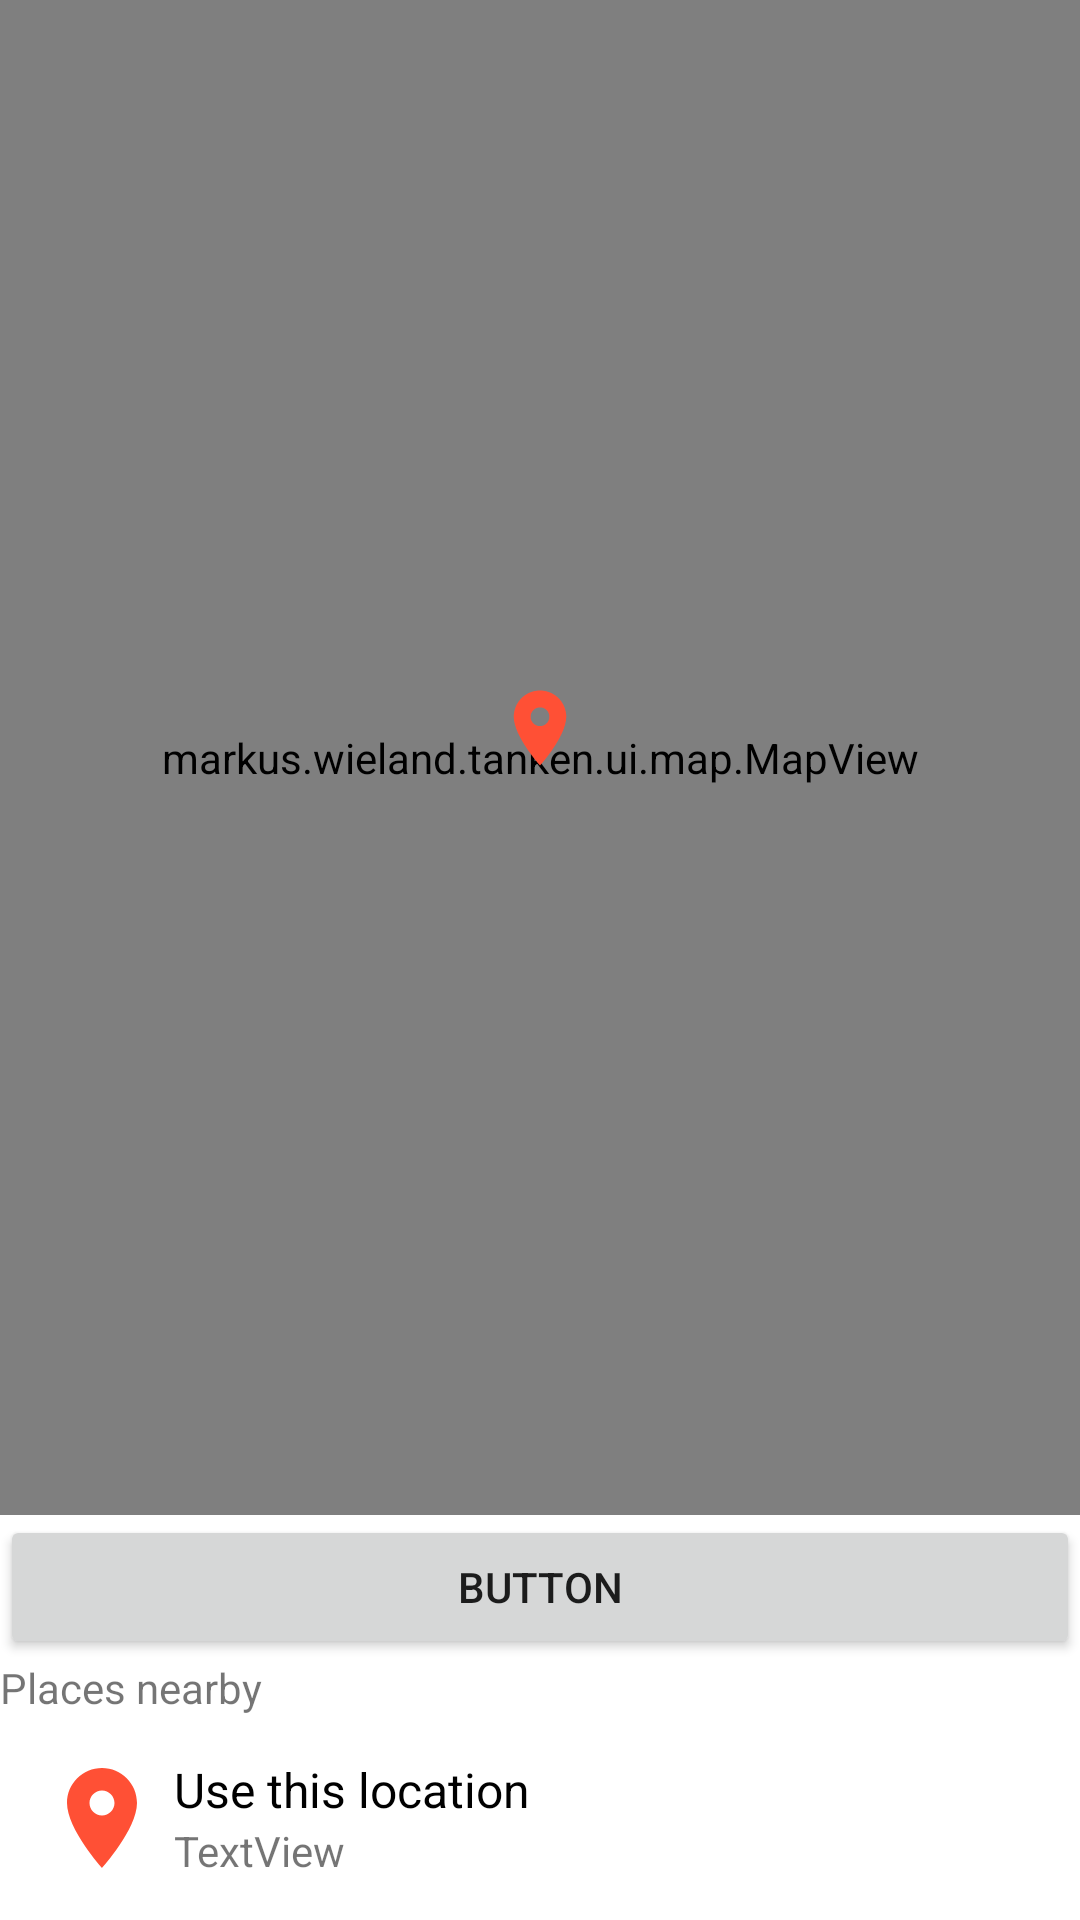

Point at icon controls on the screen. Image size 1080 x 1920, points as (x,y).
marker: (539,731), (102,1818)
